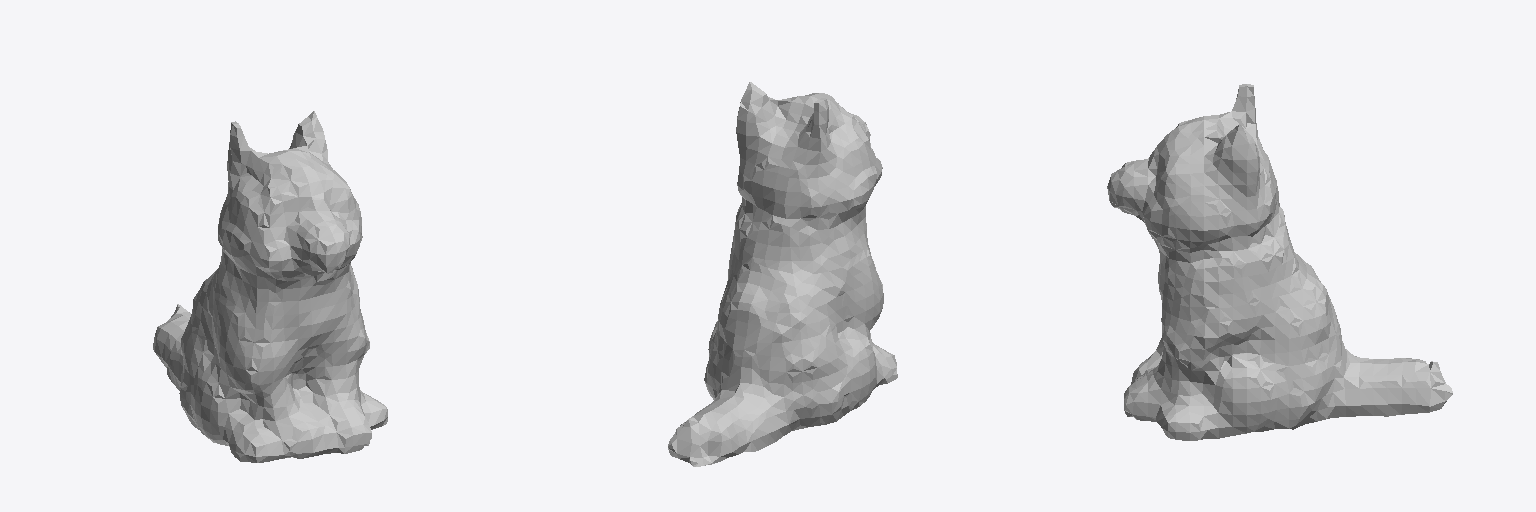
Rendered from wuffels.obj.
The picture shows the model from 3 angles: view 1: azimuth 30°, elevation 25°; view 2: azimuth 150°, elevation 25°; view 3: azimuth 270°, elevation 25°; orthographic projection.
Visible parts, largest first — view 1: Model.001_Model.003; view 2: Model.001_Model.003; view 3: Model.001_Model.003.
Part boxes in pixels (bbox=[...]): Model.001_Model.003: bbox=[153, 111, 387, 462]; Model.001_Model.003: bbox=[668, 82, 897, 466]; Model.001_Model.003: bbox=[1107, 84, 1452, 440].
Bounding box in the file's own units: 229 × 426 × 436.